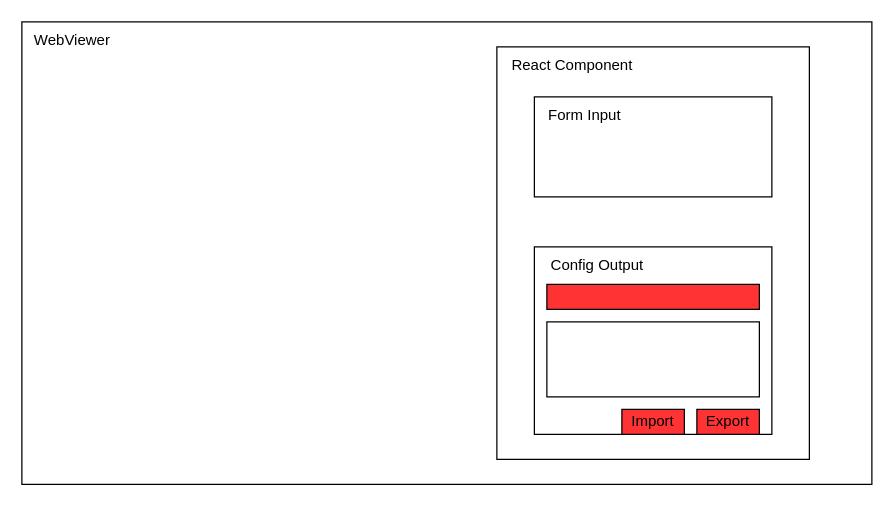
Image size: 894x506. Some labels were removed from this diagram. The shapes that lost their labels are listed below. From the top down, each one's centre as x and y in pixels, then its label:
At [652,296]: "Ribbon Group Buttons".
At [652,359]: "Tools Output".
